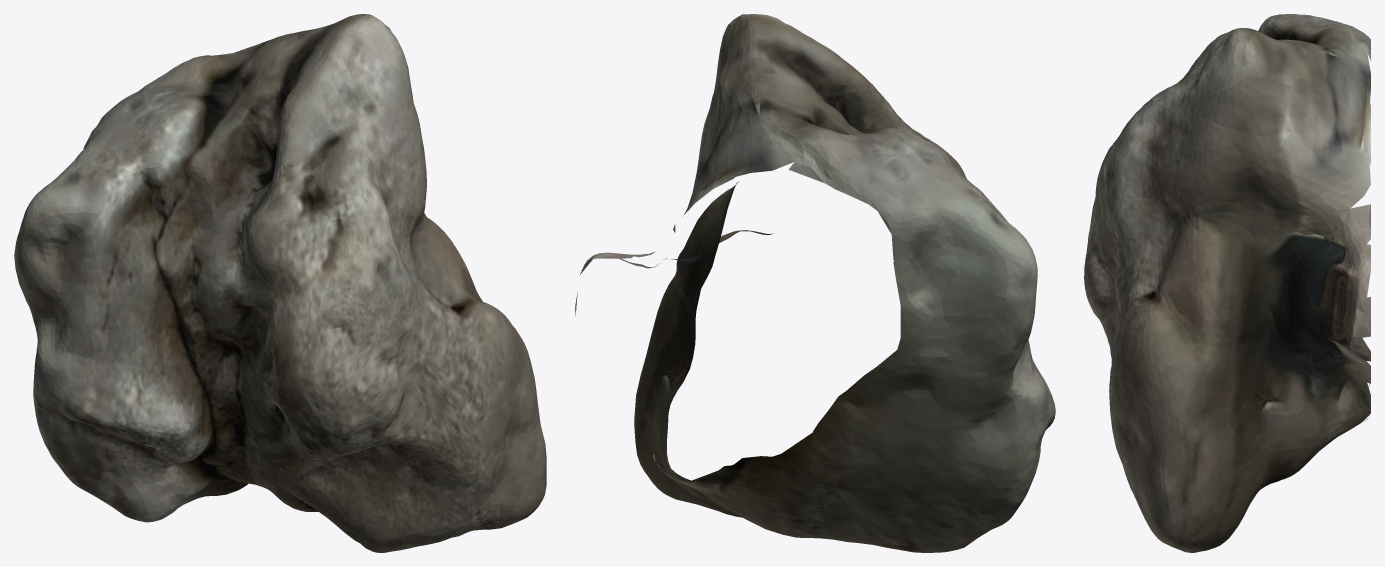
File: stein.glb
3 renders of one model, left to right at view 1: azimuth 30°, elevation 25°; view 2: azimuth 150°, elevation 25°; view 3: azimuth 270°, elevation 25°, orthographic. The views are drawn at different scales.
Size of the model in its own units: 0.0453 by 0.0489 by 0.027.
Materials: 1 (1 with a texture image).
